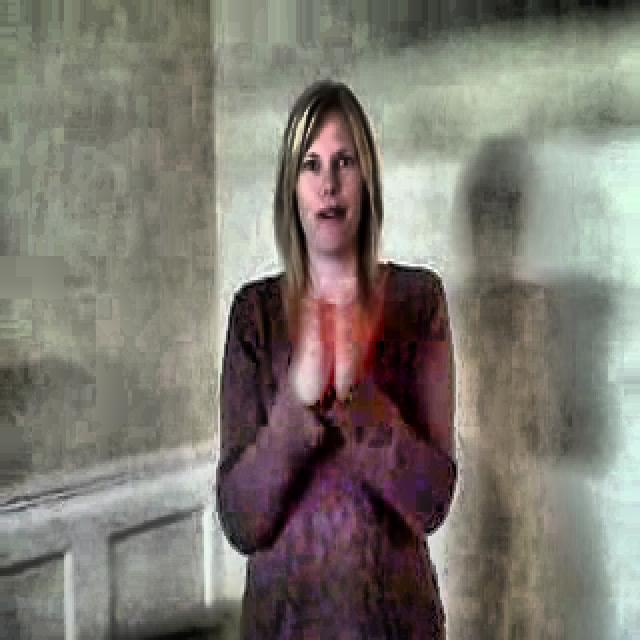F: (204, 61, 455, 640)
